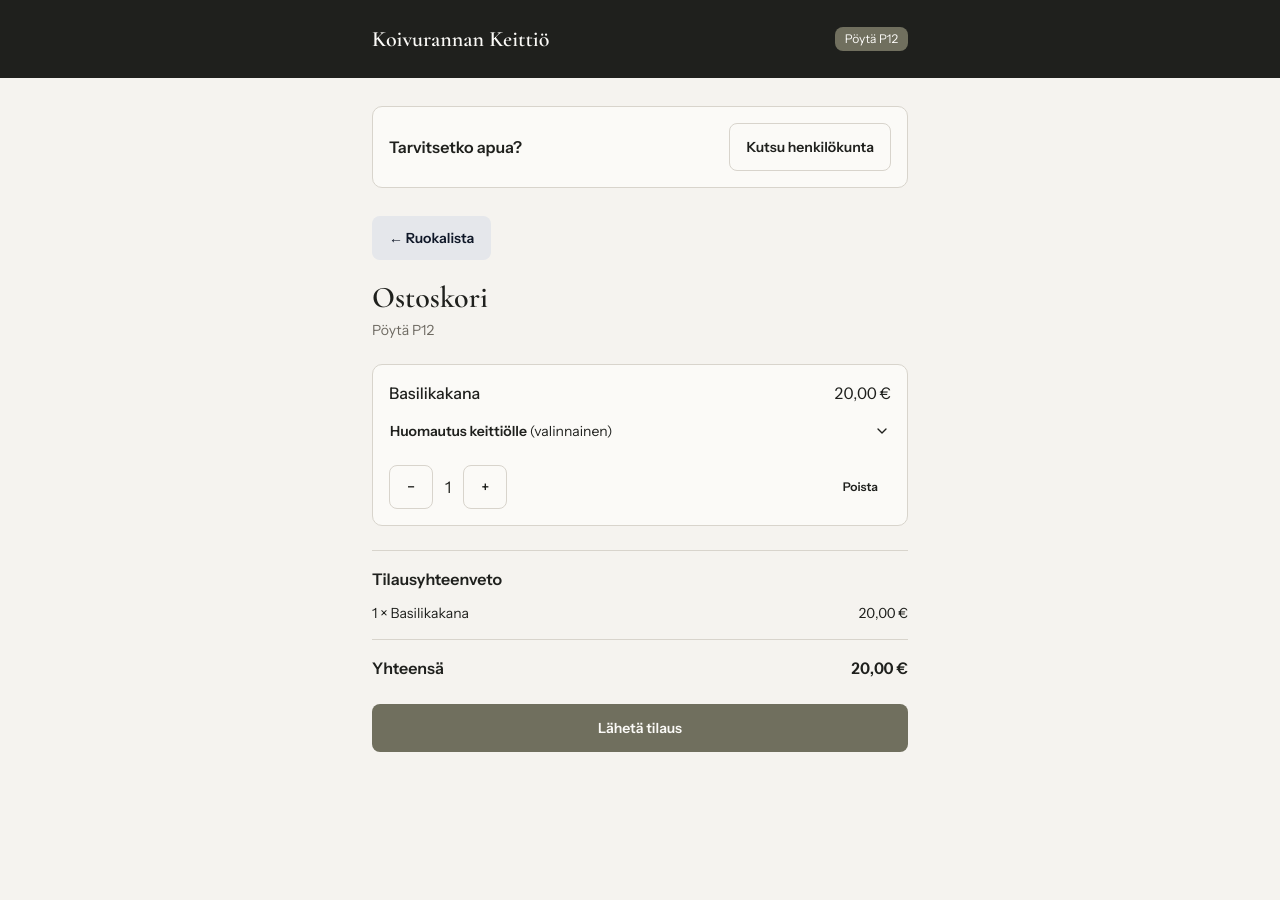
anonymous QR customer › does not send an order when its pending request cannot be persisted
Click the button "Lähetä tilaus": [640, 728] box [372,704,908,752]
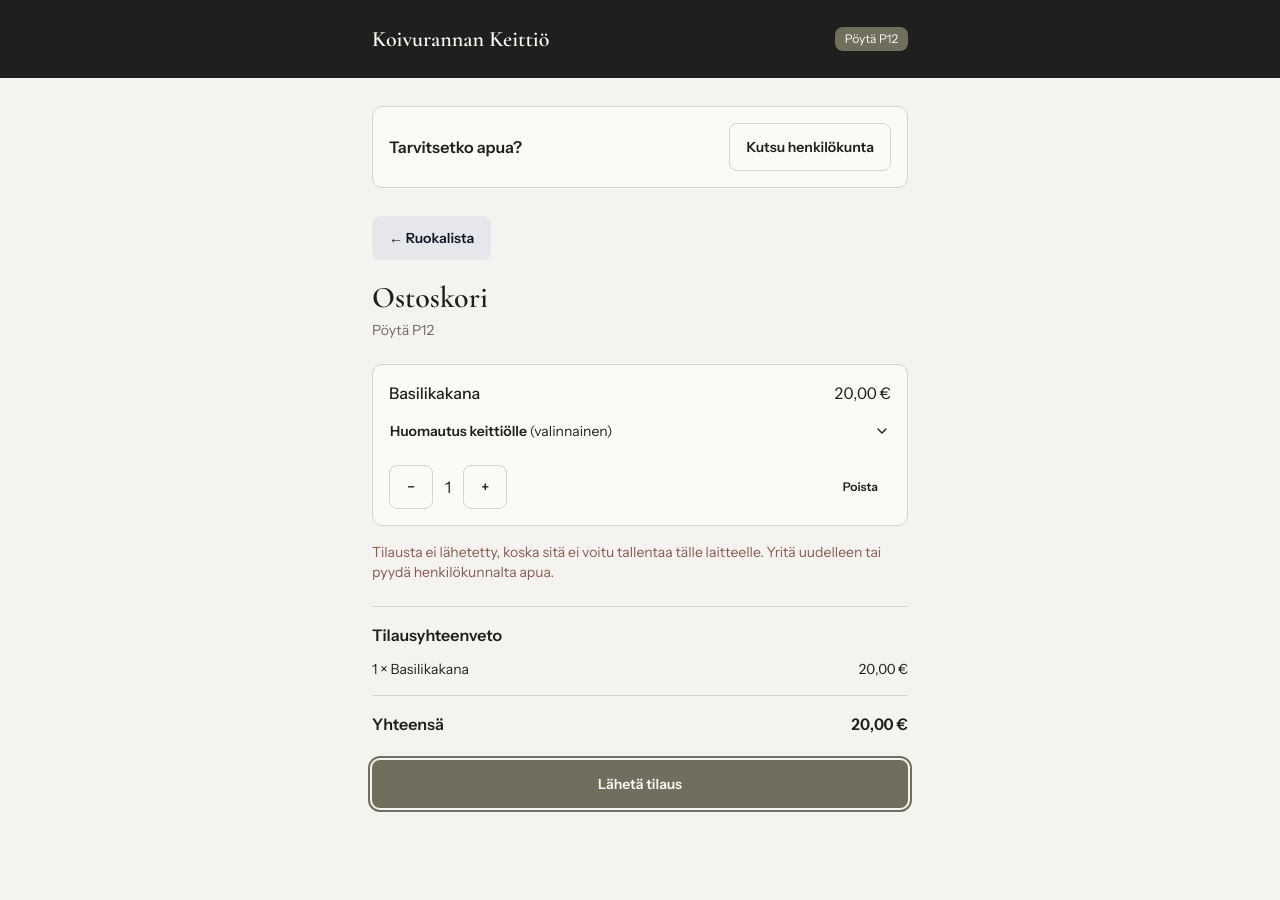
Expected: the button named "Lisää Basilikakana" is shown, [463,465,507,509]
Expected: the message is shown, [372,542,908,582]
Expected: the message shows "Tilausta ei lähetetty", [372,543,881,581]
